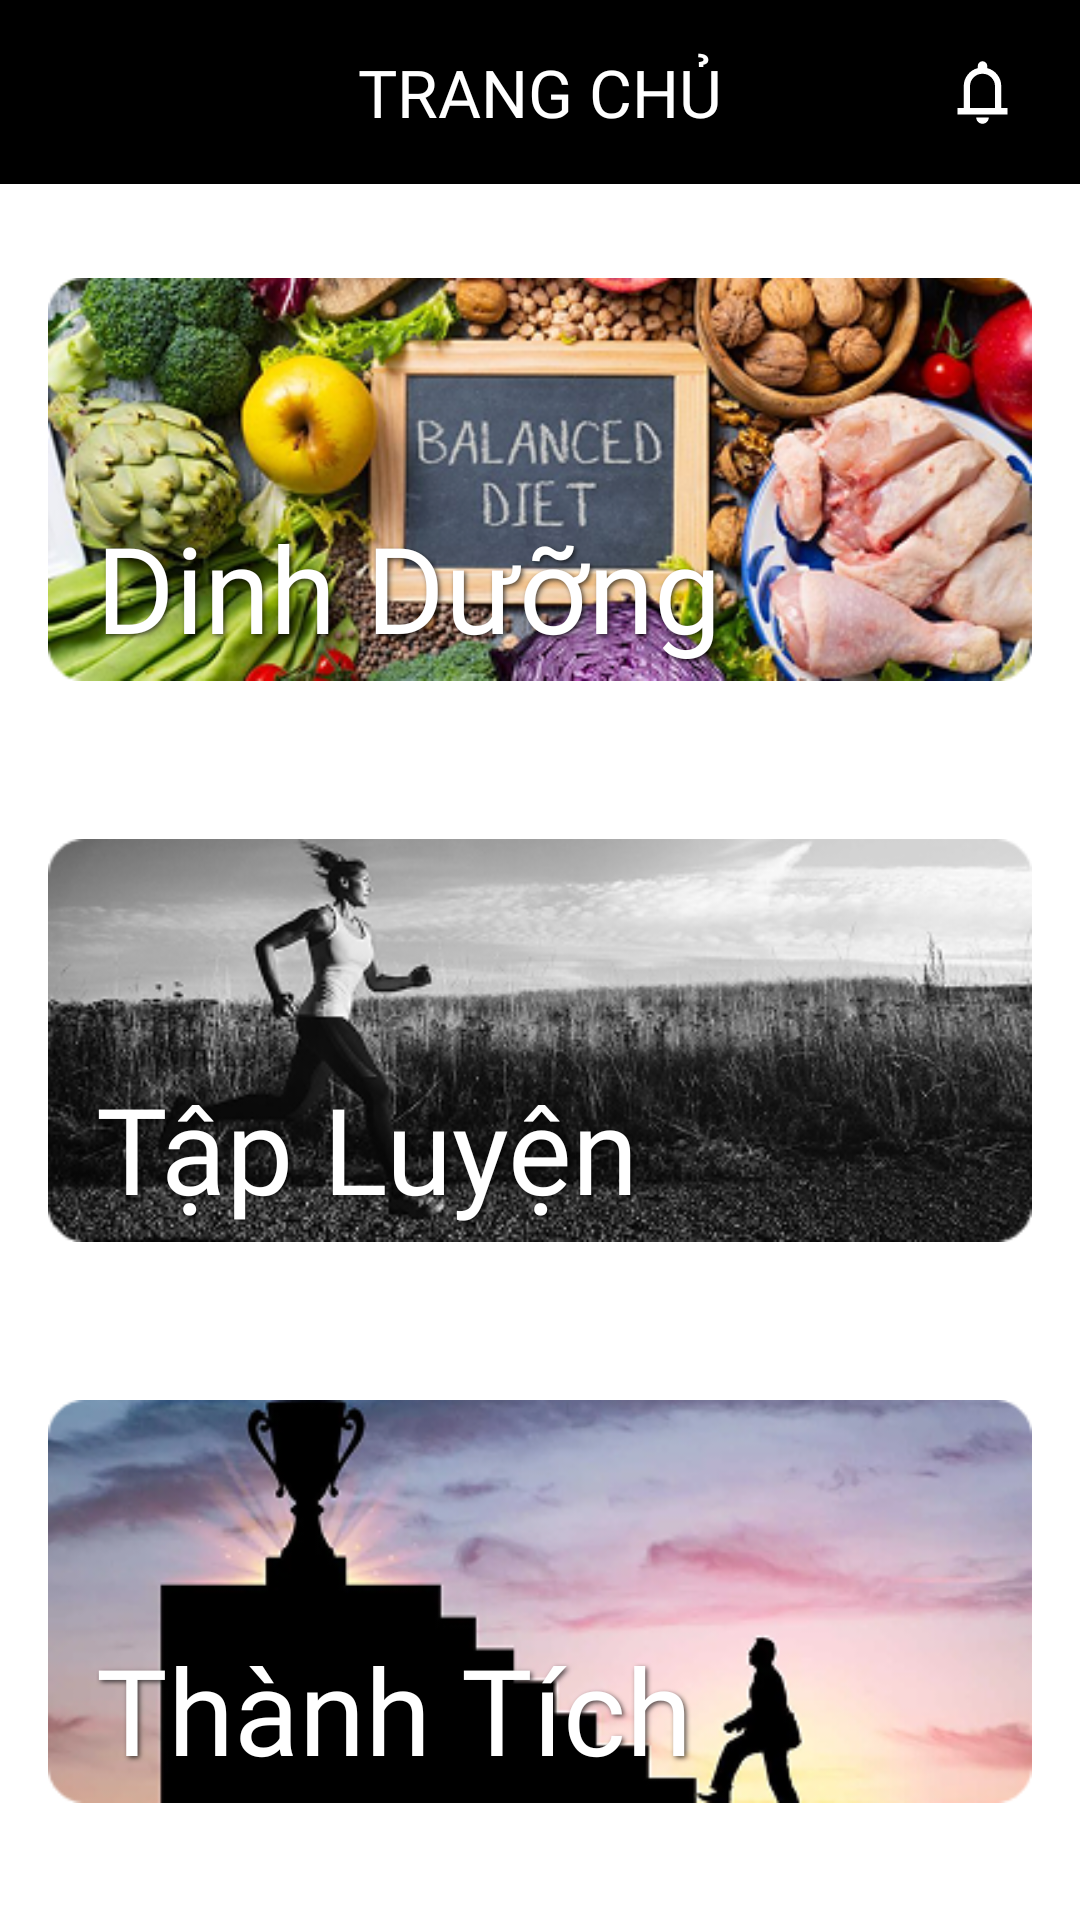

Point at icon controls on the screen. Image size 1080w x 1920h, points as [x,y].
notifications: [982,92]
